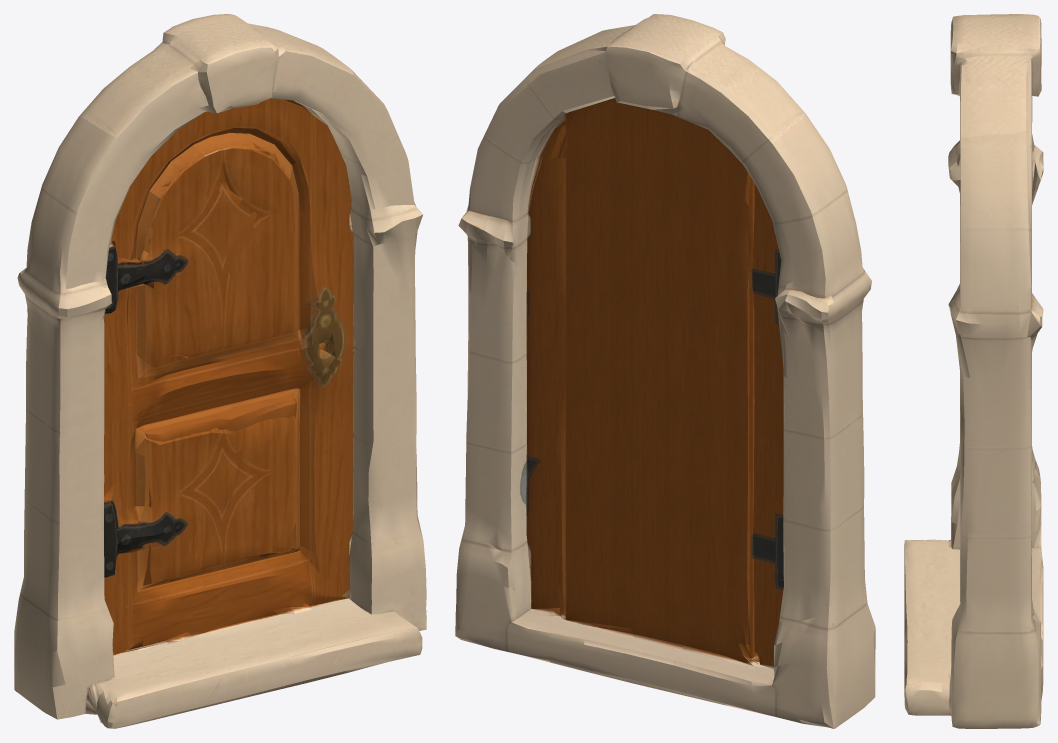
Rendered from aksehir-kapisi.glb.
3 views of the same model, side by side, from view 1: azimuth 30°, elevation 25°; view 2: azimuth 150°, elevation 25°; view 3: azimuth 270°, elevation 25° (orthographic). The views are drawn at different scales.
Parts seen in each view (by area): view 1: Mesh0; view 2: Mesh0; view 3: Mesh0.
Part boxes in pixels (<box>): Mesh0: <box>14,14,426,728</box>; Mesh0: <box>455,14,875,728</box>; Mesh0: <box>904,14,1043,728</box>.
Size of the model in its own units: 1.19 by 1.9 by 0.3898.
Materials: 1 (1 with a texture image).
